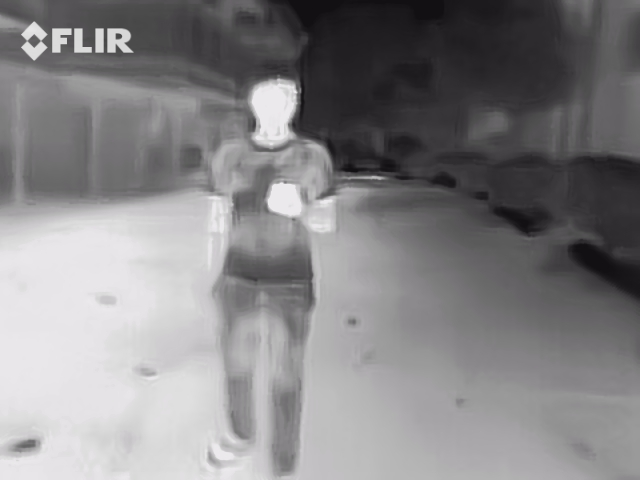head: (245, 63, 301, 131)
